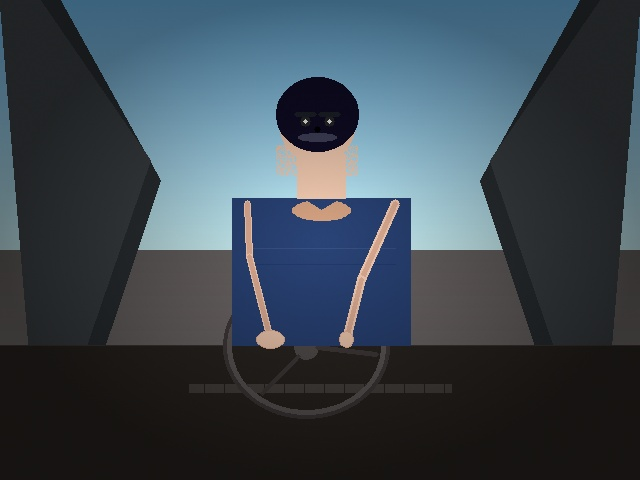normal_driving: (108, 180, 306, 346)
